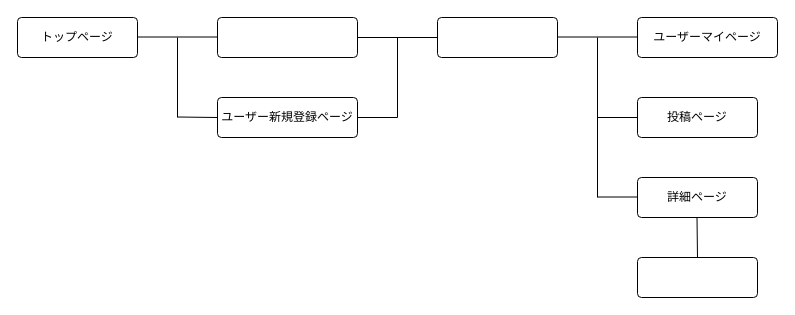
The diagram is 795 pixels wide and 315 high, and some of its shapes have lost their labels. Each missing label, with the box of its shape:
ユーザーログインページ: (216, 16, 358, 58)
一覧ページ: (436, 16, 558, 58)
編集ページ: (636, 256, 758, 298)
